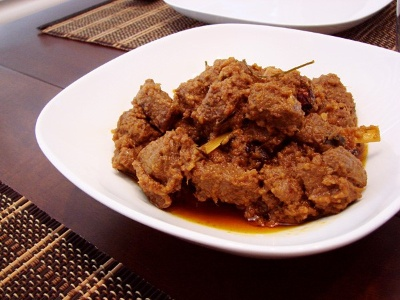rendang: (114, 60, 362, 213)
